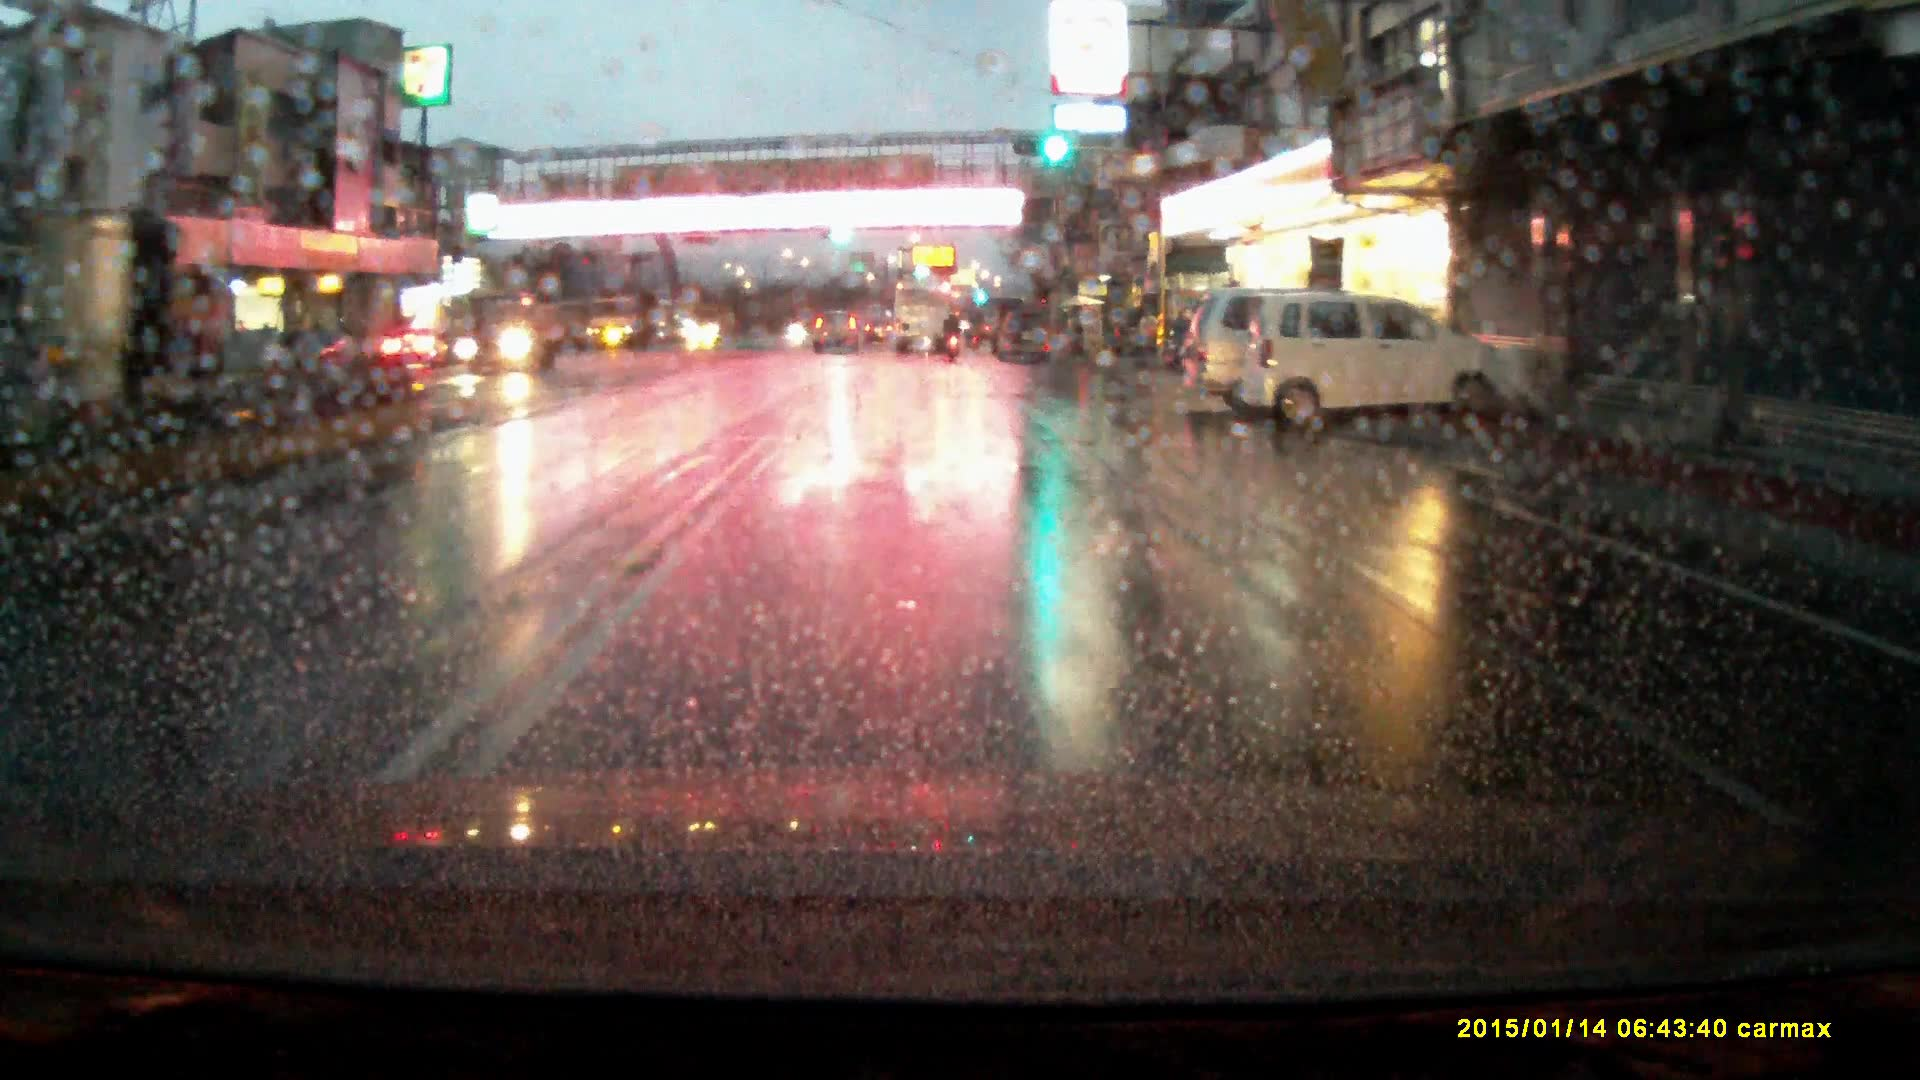rider: (943, 311, 964, 364)
vehicle: (1244, 293, 1535, 432), (1184, 287, 1353, 423), (455, 296, 560, 374), (261, 322, 366, 376), (896, 279, 952, 350), (585, 294, 654, 346), (994, 306, 1053, 363), (381, 326, 453, 369), (684, 298, 744, 343), (1108, 306, 1159, 358), (814, 304, 864, 352)
